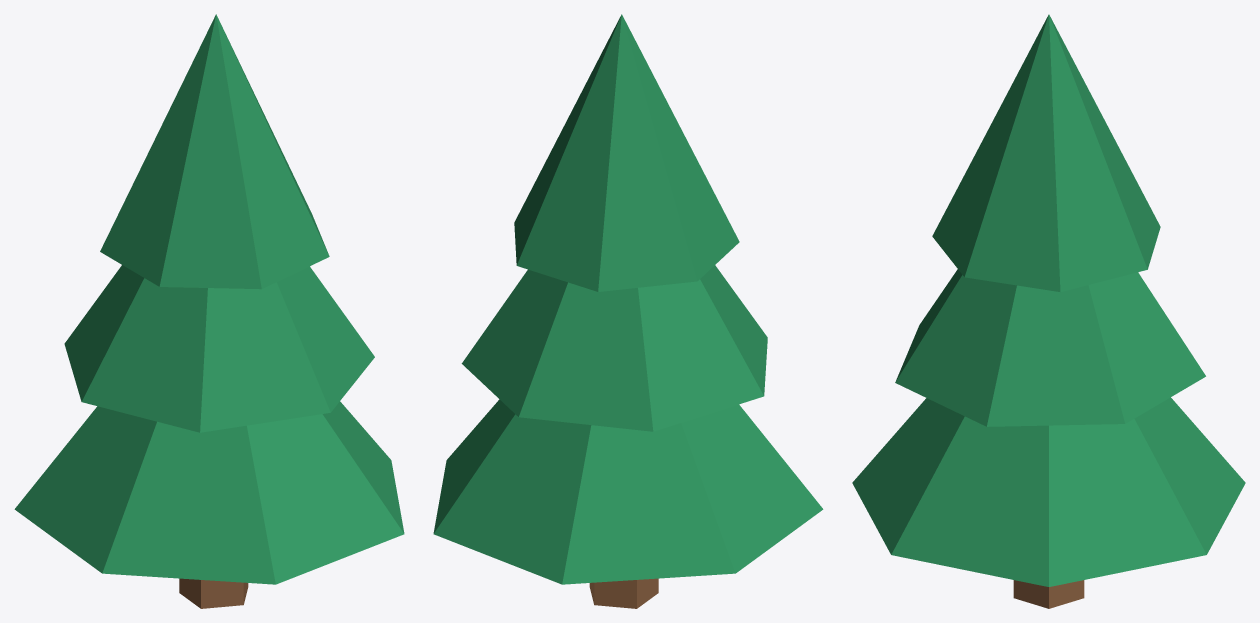
File: tree_pine.glb
3 views of the same model, side by side, from view 1: azimuth 30°, elevation 25°; view 2: azimuth 150°, elevation 25°; view 3: azimuth 270°, elevation 25° (orthographic).
Visible parts, largest first — view 1: tree_pine; view 2: tree_pine; view 3: tree_pine.
Part boxes in pixels (x1,y1,x2,y2): tree_pine: (14,14,404,608); tree_pine: (433,14,823,608); tree_pine: (852,14,1245,608).
Bounding box in the file's own units: 0.2737 × 0.456 × 0.2808.
